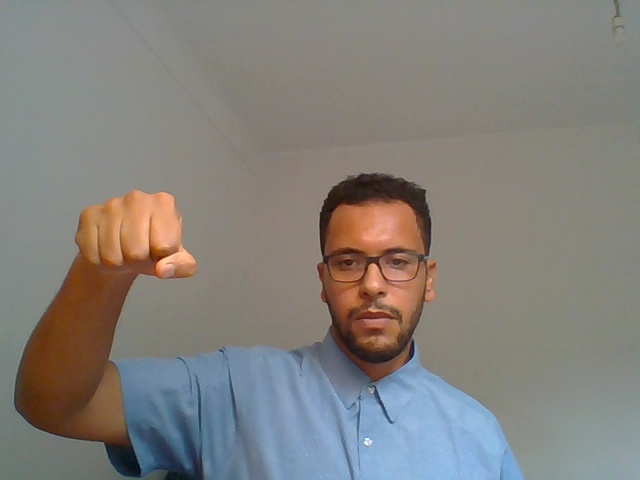yes: (47, 177, 219, 331)
